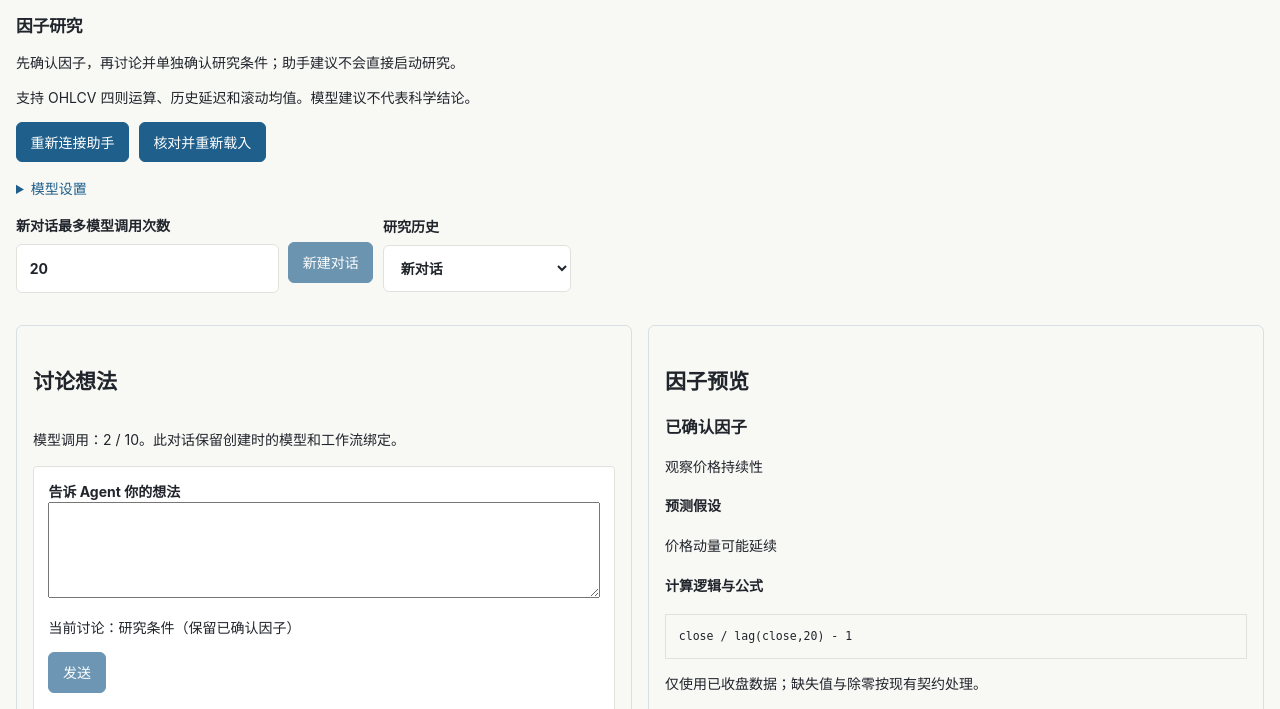
Test: keeps Factor confirmation across Study heads and withdraws only the Study when its conditions change
expect the heading "已确认因子" is shown: met, box top-left (665, 417), bottom-right (747, 437)
Type "把预测期限改成3根" into the text box labelled "告诉 Agent 你的想法" at (324, 550), box top-left (48, 502), bottom-right (600, 598)
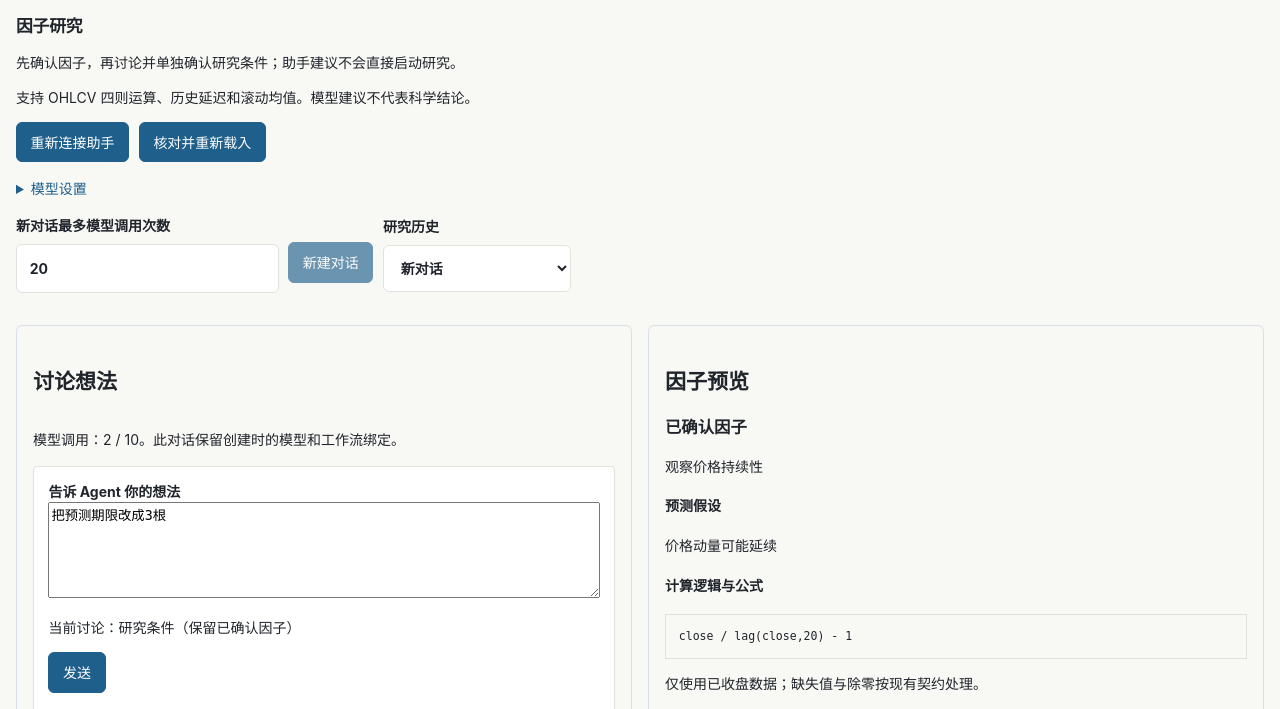
Click the button "发送" at (77, 673), box top-left (48, 652), bottom-right (106, 693)
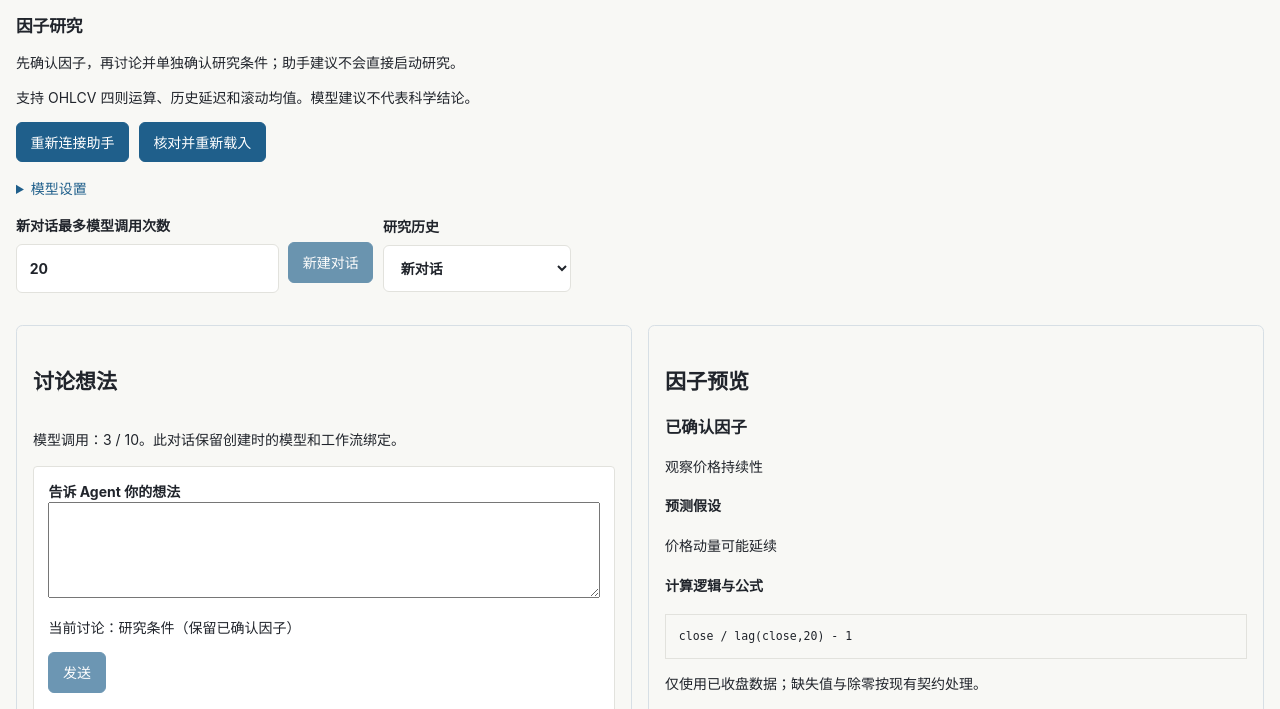
expect the button "发送" is disabled: met, box top-left (48, 652), bottom-right (106, 693)
